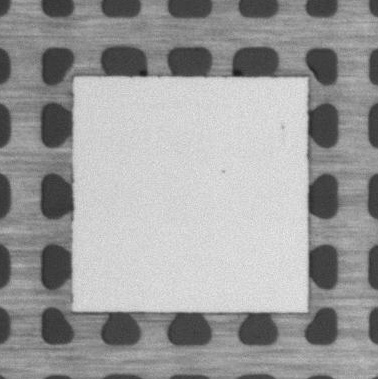DIE_INK: (279, 120, 288, 133), (217, 166, 228, 176)
